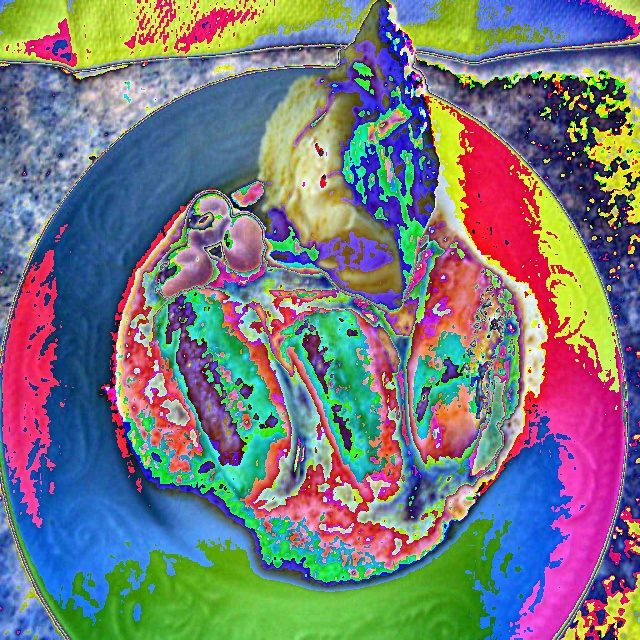background: (150, 0, 443, 512), (225, 254, 508, 508)
